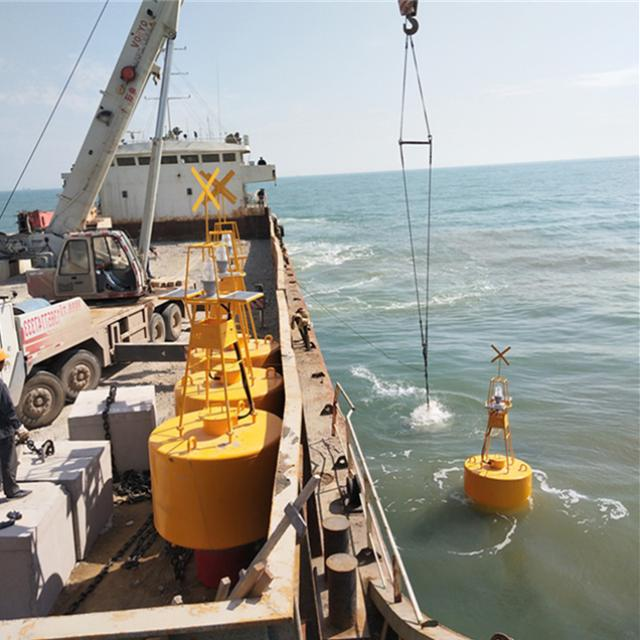buoy: (454, 340, 536, 510)
